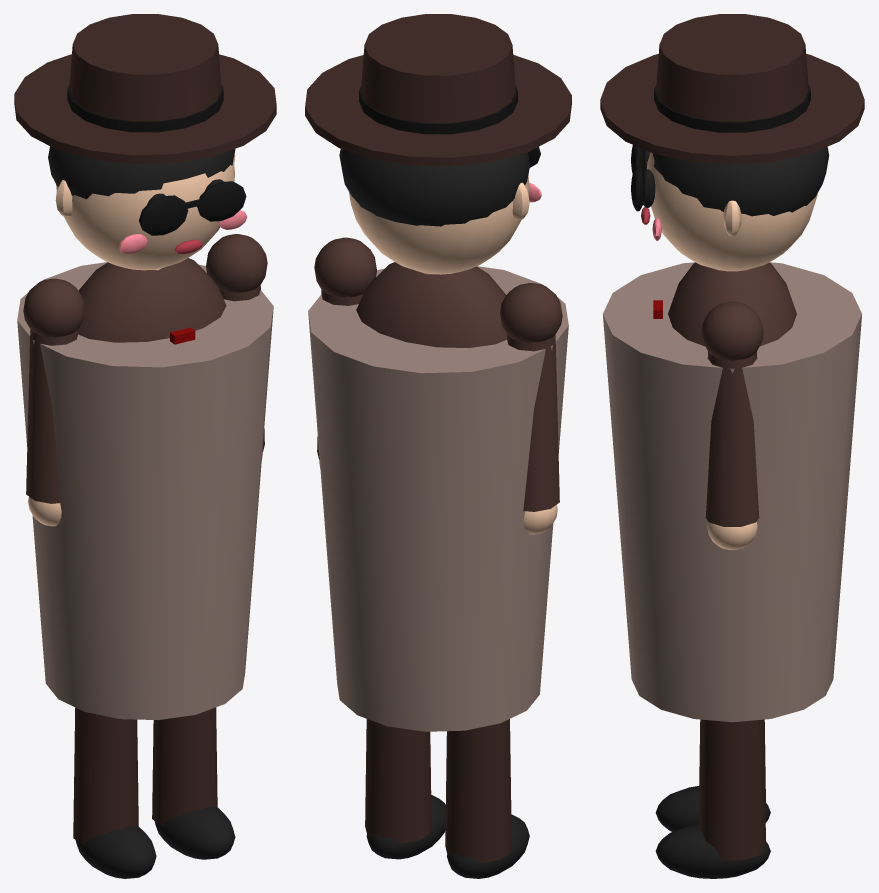
Rendered from underworld_fixer.glb.
3 renders of one model, left to right at view 1: azimuth 30°, elevation 25°; view 2: azimuth 150°, elevation 25°; view 3: azimuth 270°, elevation 25°, orthographic.
Visible parts, largest first — view 1: Body.002, Leg_R.002, Leg_L.002, Arm_R.002, Arm_L.002; view 2: Body.002, Leg_R.002, Leg_L.002, Arm_R.002, Arm_L.002; view 3: Body.002, Leg_L.002, Arm_L.002, Leg_R.002.
Part boxes in pixels (left/top/right/bottom): Body.002: left=14, top=14, right=276, bottom=720; Leg_R.002: left=73, top=707, right=156, bottom=878; Leg_L.002: left=152, top=707, right=235, bottom=859; Arm_R.002: left=23, top=278, right=84, bottom=526; Arm_L.002: left=206, top=234, right=267, bottom=460; Body.002: left=305, top=14, right=571, bottom=731; Leg_R.002: left=445, top=719, right=529, bottom=878; Leg_L.002: left=365, top=719, right=445, bottom=859; Arm_R.002: left=500, top=283, right=562, bottom=534; Arm_L.002: left=314, top=237, right=376, bottom=467; Body.002: left=600, top=14, right=864, bottom=722; Leg_L.002: left=655, top=719, right=770, bottom=878; Arm_L.002: left=701, top=301, right=763, bottom=550; Leg_R.002: left=655, top=720, right=770, bottom=831.
Bounding box in the file's own units: 0.6052 × 1.98 × 0.585.
